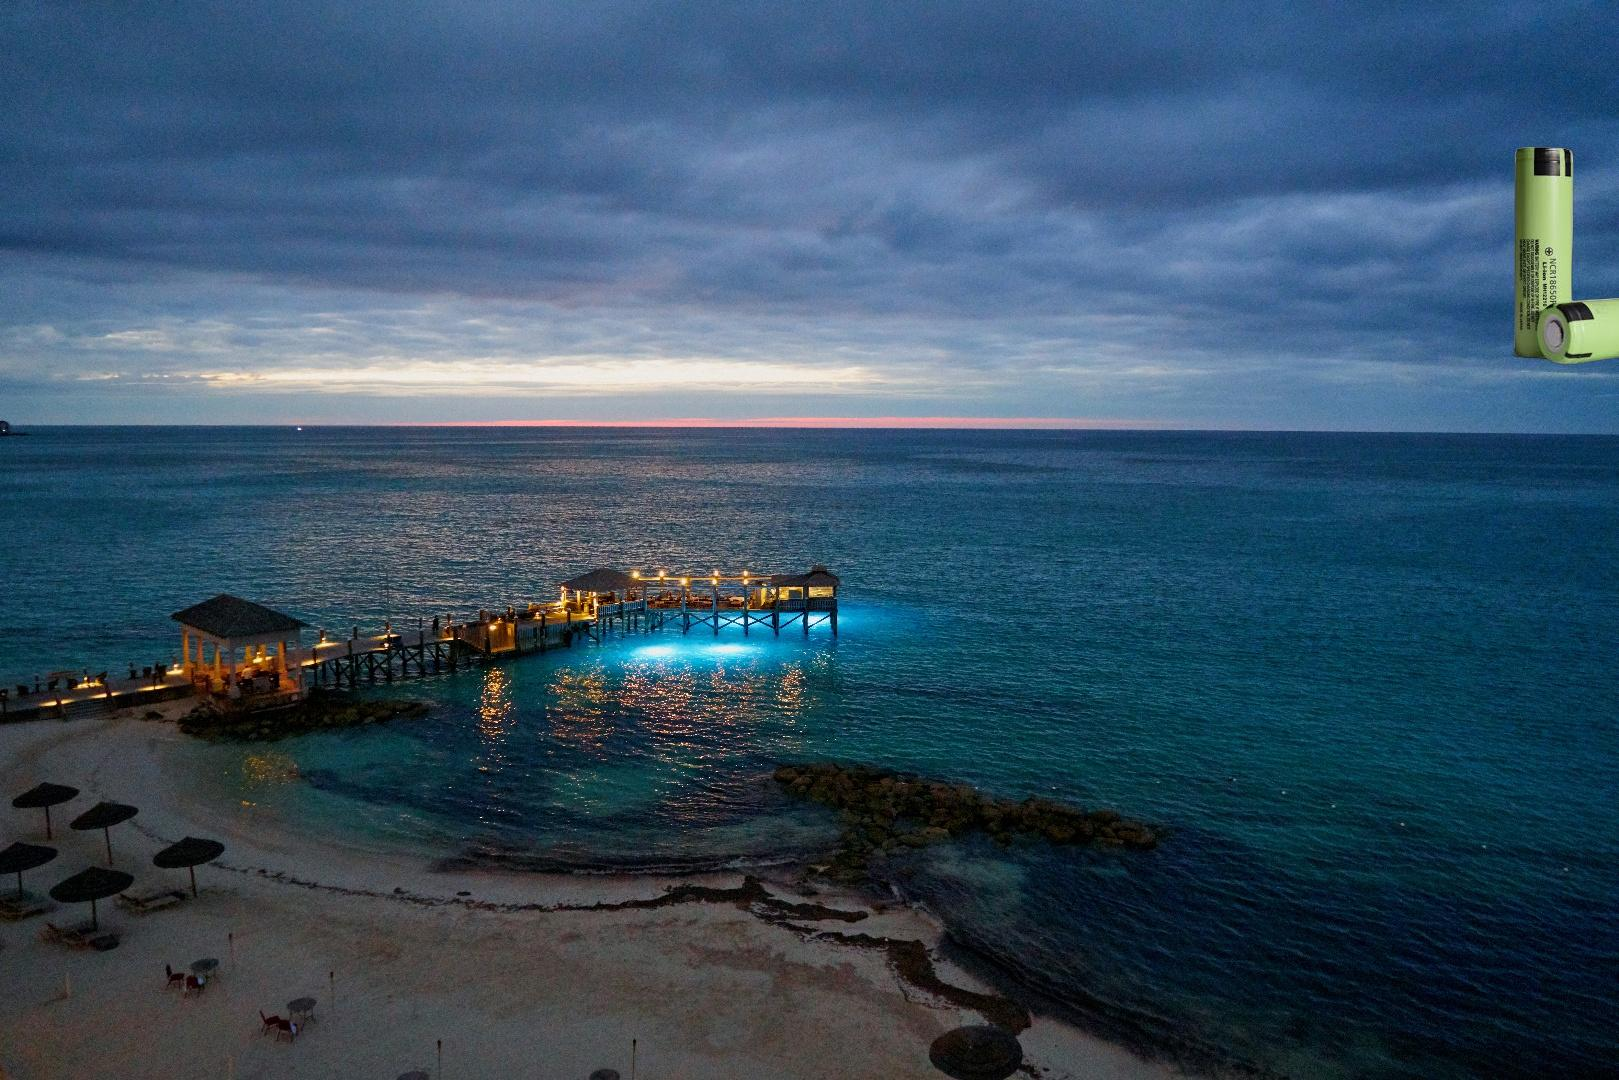battery: (1504, 143, 1619, 368)
